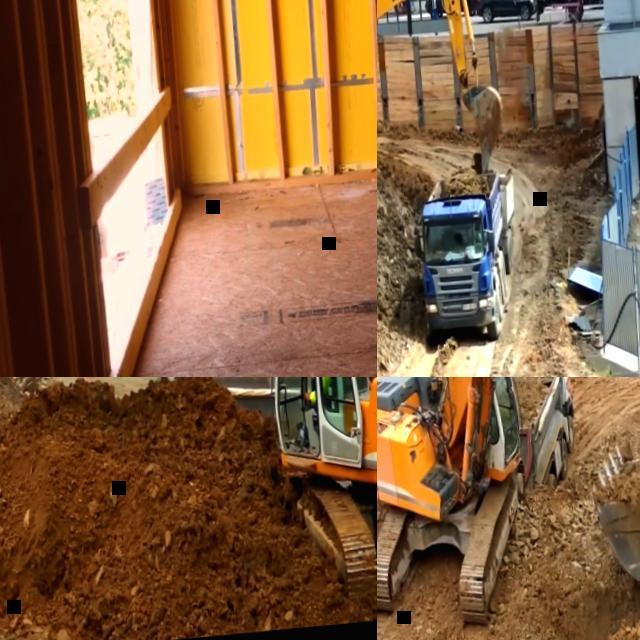vest: (321, 377, 334, 393), (475, 231, 482, 244)
